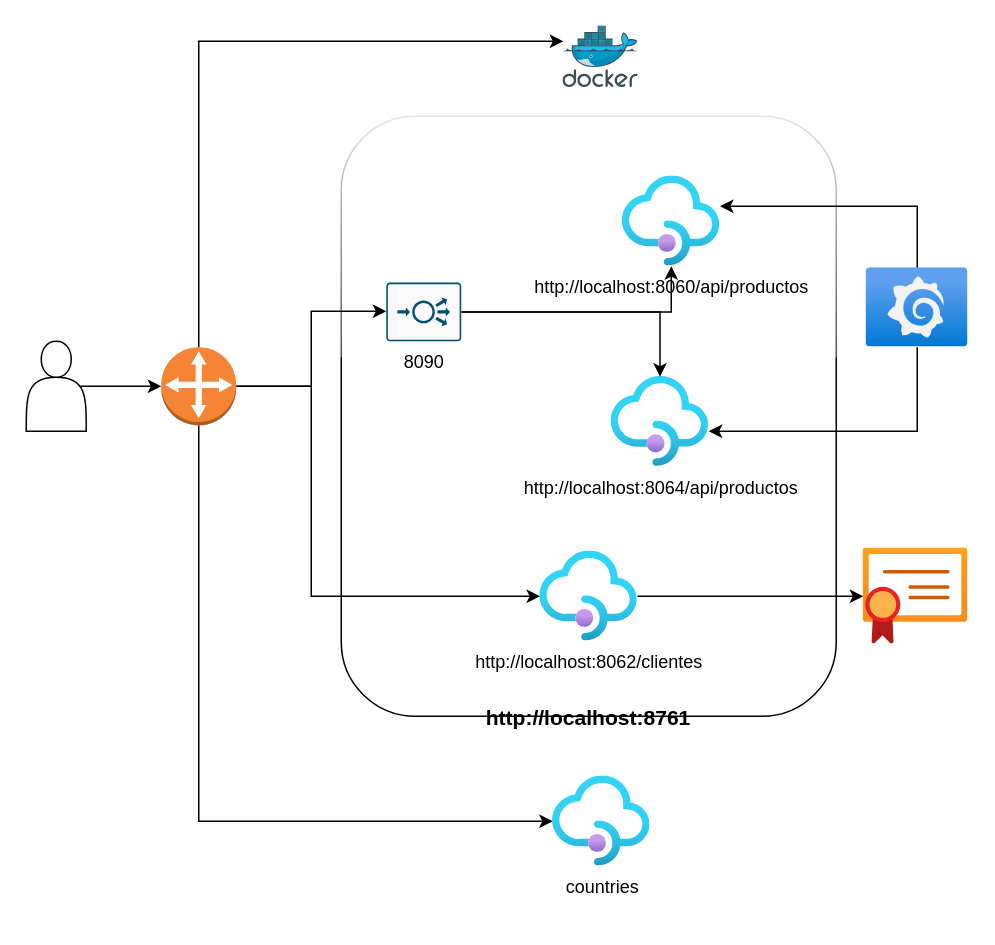
Some shapes in this 995 by 945 pixel diagram are drawn without their labels. Each missing label, with the centre of its shape:
"CloudGateway http://localhost:8050/XXX" goes at [198,385].
"Grafana" goes at [917,306].
"Zipkin" goes at [915,596].
